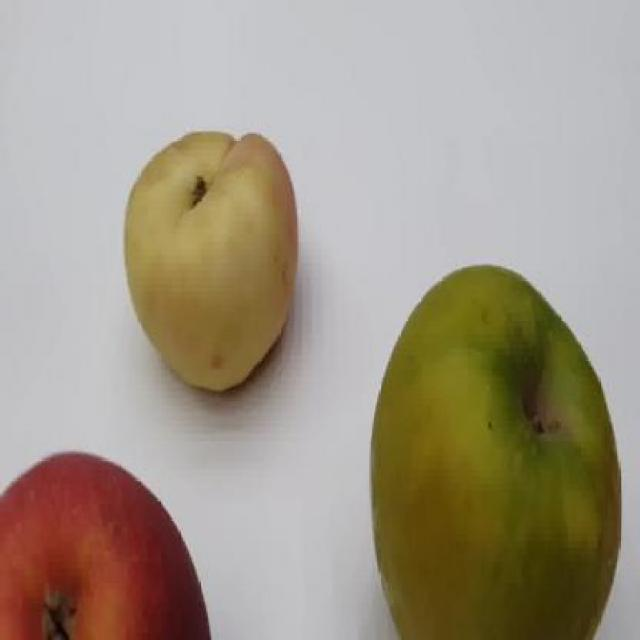Fresh Apple: (369, 273, 630, 640), (120, 156, 298, 384)
